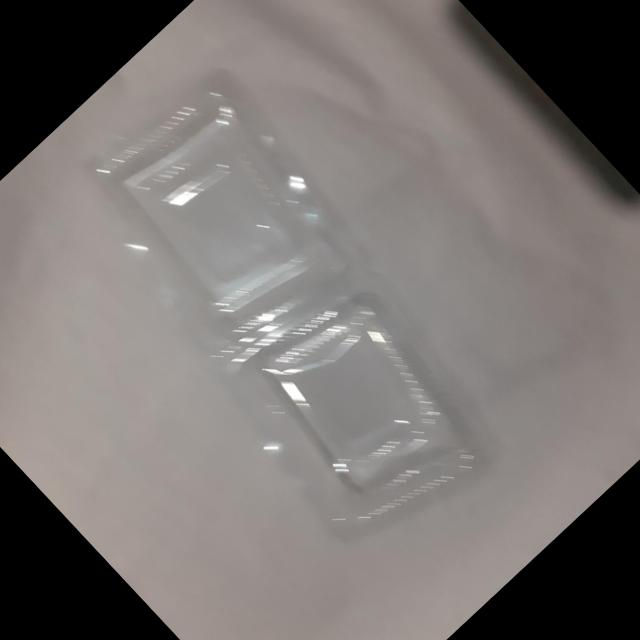KemasanPlastik: (33, 52, 548, 579)
